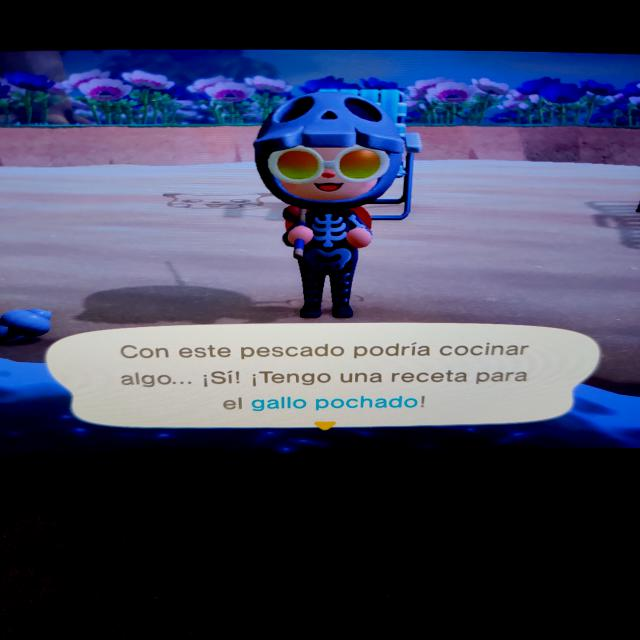text_bubble: (42, 321, 605, 432)
